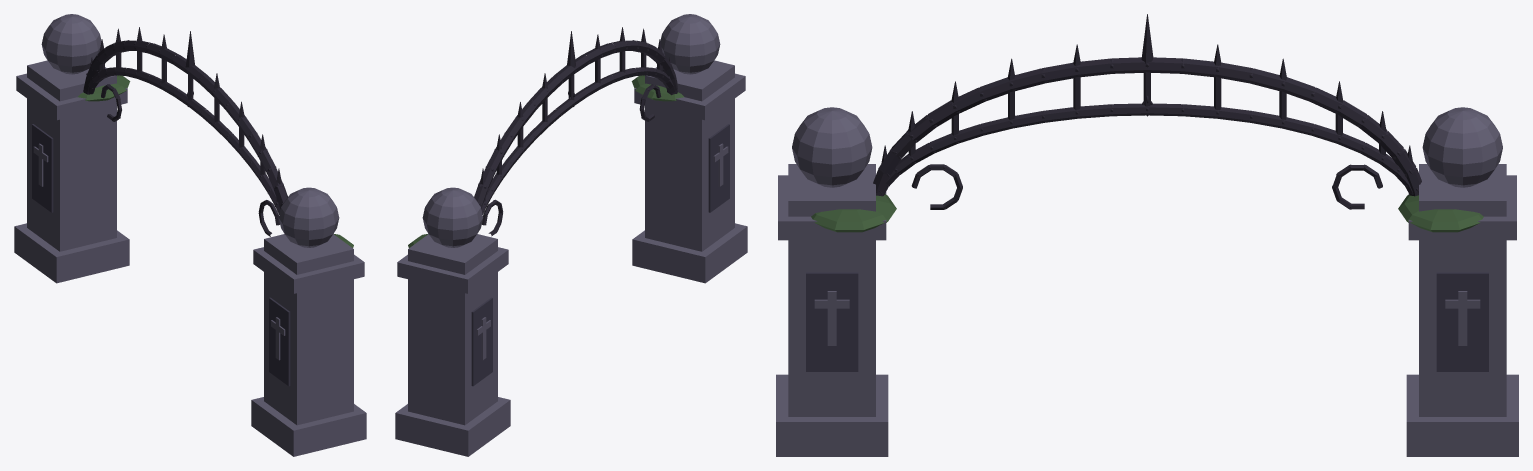
File: grave-gate.glb
The picture shows the model from 3 angles, left to right: view 1: azimuth 30°, elevation 25°; view 2: azimuth 150°, elevation 25°; view 3: azimuth 270°, elevation 25°; orthographic projection. The views are drawn at different scales.
Parts seen in each view (by area): view 1: grave-gate.001; view 2: grave-gate.001; view 3: grave-gate.001.
Boxes of the visible parts, x1,y1,x2,y2 form: grave-gate.001: (14,14,366,456); grave-gate.001: (395,14,747,456); grave-gate.001: (776,14,1518,456).
Size of the model in its own units: 0.7253 by 2.64 by 4.24.
